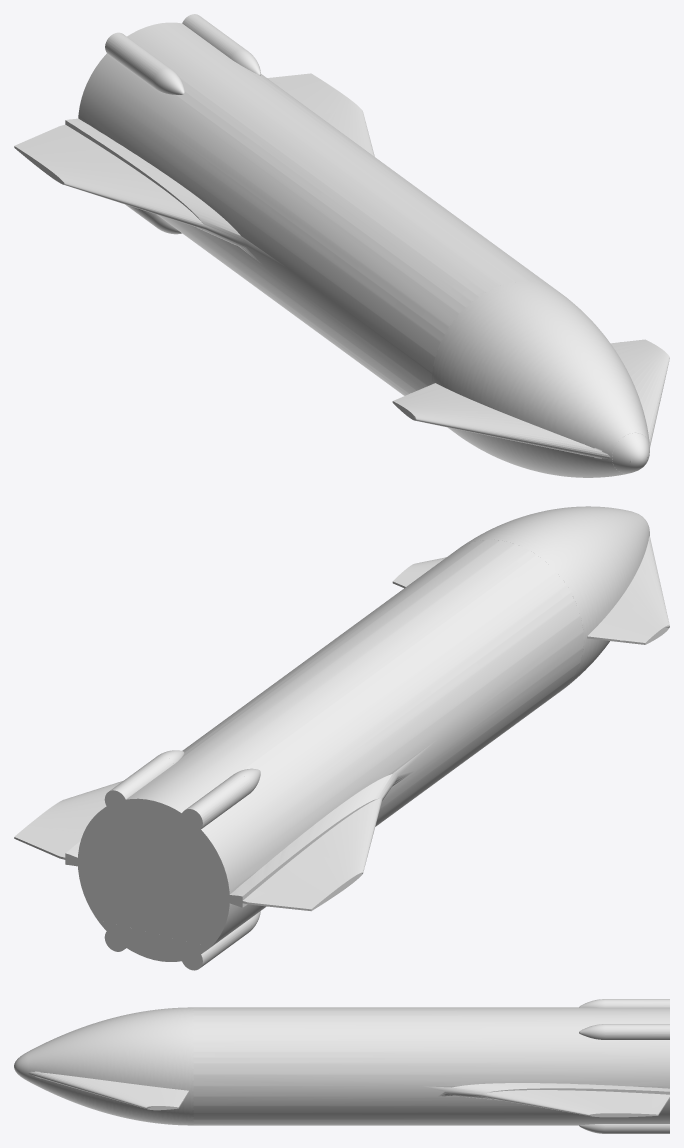
The model's file is starship.glb.
3 renders of one model, top to bottom at view 1: azimuth 30°, elevation 25°; view 2: azimuth 150°, elevation 25°; view 3: azimuth 270°, elevation 25°, orthographic. The views are drawn at different scales.
Visible parts, largest first — view 1: Object_0; view 2: Object_0; view 3: Object_0.
Part boxes in pixels (x1,y1,x2,y2): Object_0: (14,14,669,477); Object_0: (14,506,669,970); Object_0: (14,999,669,1133).
Bounding box in the file's own units: 53.06 × 27.36 × 150.
Materials: 1 (1 with a texture image).
